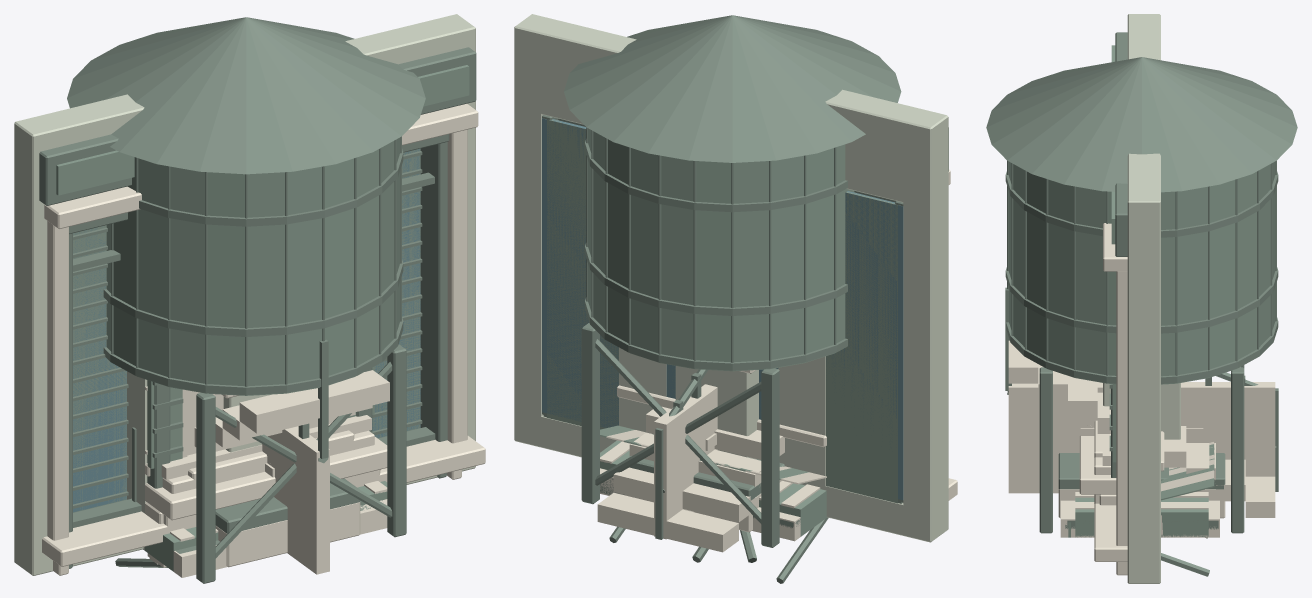
The model's file is kit.glb.
3 renders of one model, left to right at view 1: azimuth 30°, elevation 25°; view 2: azimuth 150°, elevation 25°; view 3: azimuth 270°, elevation 25°, orthographic. The views are drawn at different scales.
Visible parts, largest first — view 1: timber tank.001, conical tank roof.001, brick pier.030, recessed leaf.015, recessed leaf.019, reveal.039, brick pier.038, sill.068, closed stair cheek.004, stone jamb.039, stone jamb.030, shop fascia.005 (+36 smaller); view 2: timber tank.001, conical tank roof.001, recessed leaf.019, recessed leaf.015, brick pier.038, brick pier.030, brick pier.039, header.019, header.015, brick pier.031, closed stair cheek.004, spandrel.011 (+29 smaller); view 3: timber tank.001, conical tank roof.001, brick pier.031, closed stair cheek.004, brick pier.039, stone jamb.031, header.015, tank leg.006, tank leg.007, canopy.013, iron hoop.005, iron hoop.004 (+27 smaller).
Part boxes in pixels (<box>): timber tank.001: <box>106,137,399,395</box>; conical tank roof.001: <box>67,17,425,174</box>; brick pier.030: <box>14,117,56,575</box>; recessed leaf.015: <box>73,148,420,512</box>; recessed leaf.019: <box>73,148,420,512</box>; reveal.039: <box>420,142,446,478</box>; brick pier.038: <box>14,115,61,575</box>; sill.068: <box>42,436,485,566</box>; closed stair cheek.004: <box>262,426,329,574</box>; stone jamb.039: <box>447,131,461,479</box>; stone jamb.030: <box>47,221,62,540</box>; shop fascia.005: <box>39,47,476,205</box>; timber tank.001: <box>588,128,855,371</box>; conical tank roof.001: <box>564,15,901,162</box>; recessed leaf.019: <box>547,119,897,503</box>; recessed leaf.015: <box>542,118,903,500</box>; brick pier.038: <box>903,109,948,542</box>; brick pier.030: <box>909,111,948,542</box>; brick pier.039: <box>514,14,557,446</box>; header.019: <box>543,27,917,201</box>; header.015: <box>538,20,921,202</box>; brick pier.031: <box>514,14,547,446</box>; closed stair cheek.004: <box>654,384,717,539</box>; spandrel.011: <box>538,415,906,536</box>; timber tank.001: <box>1008,161,1275,384</box>; conical tank roof.001: <box>986,57,1297,192</box>; brick pier.031: <box>1127,191,1160,583</box>; closed stair cheek.004: <box>1008,382,1275,493</box>; brick pier.039: <box>1127,189,1160,573</box>; stone jamb.031: <box>1116,271,1127,545</box>; header.015: <box>1127,24,1160,190</box>; tank leg.006: <box>1231,367,1244,533</box>; tank leg.007: <box>1039,367,1052,533</box>; canopy.013: <box>1075,497,1208,537</box>; iron hoop.005: <box>1005,267,1278,333</box>; iron hoop.004: <box>1006,317,1278,383</box>.
Bounding box in the file's own units: 4 × 4.78 × 2.8.
